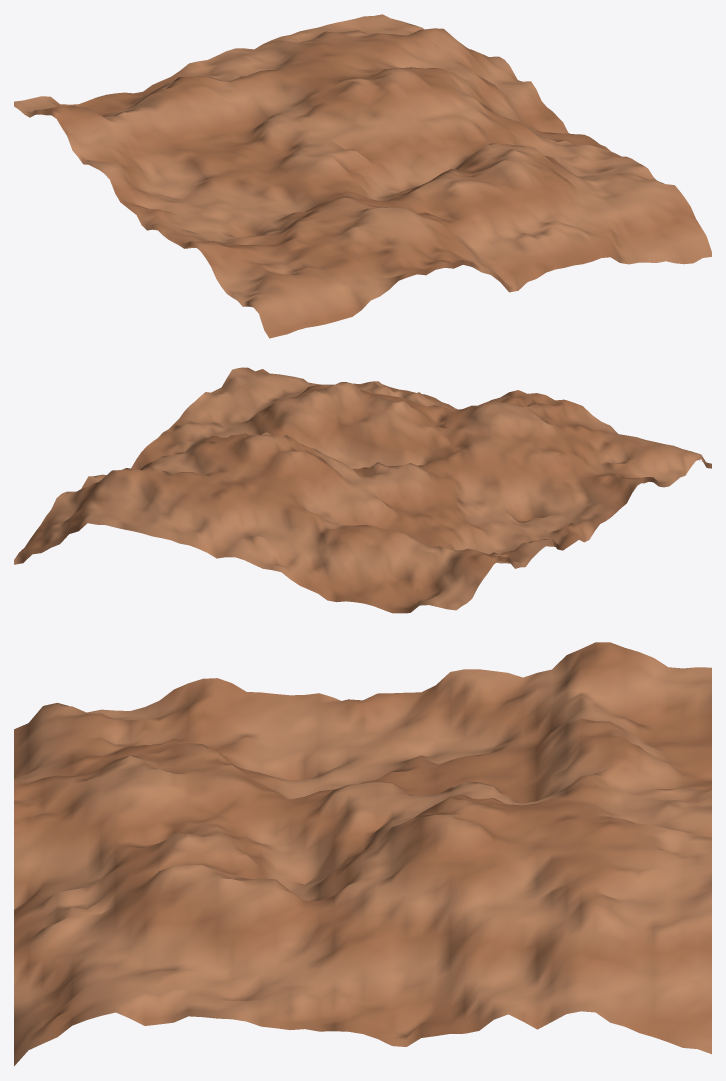
File: terrain-062.glb
The picture shows the model from 3 angles, top to bottom: view 1: azimuth 30°, elevation 25°; view 2: azimuth 150°, elevation 25°; view 3: azimuth 270°, elevation 25°; orthographic projection. The views are drawn at different scales.
Parts seen in each view (by area): view 1: terrain-062; view 2: terrain-062; view 3: terrain-062.
Boxes of the visible parts, bbox=[...] form: terrain-062: bbox=[14, 14, 711, 338]; terrain-062: bbox=[14, 367, 711, 613]; terrain-062: bbox=[14, 642, 711, 1066].
Size of the model in its own units: 384 by 89.01 by 384.
